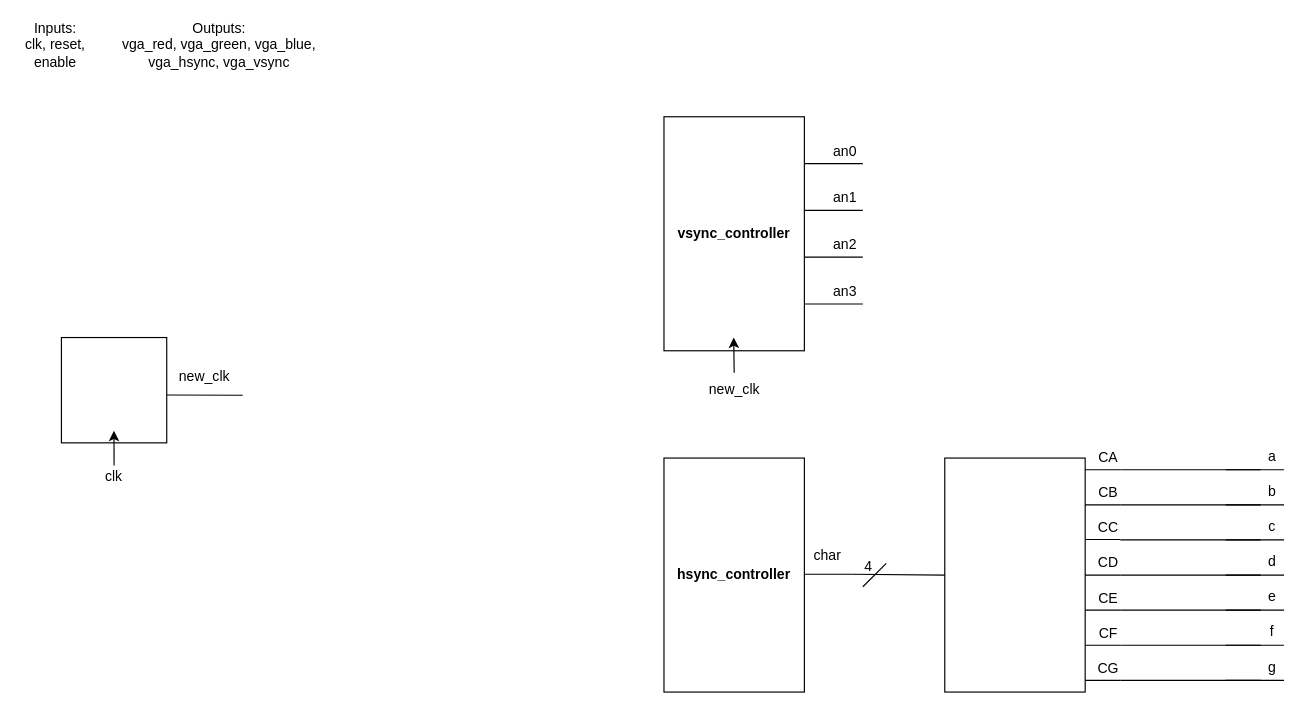
Image size: 1306x713. Some labels were removed from this diagram. The shapes that lost their labels are listed below. From the top down, each one's box as (x1, y1, x2, y2) in pixels, then its label:
(60, 336, 167, 443): clock_divider
(944, 457, 1085, 692): LEDdecoder
